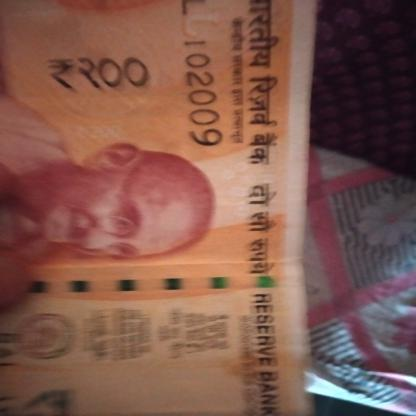New200Front: (2, 0, 287, 415)
